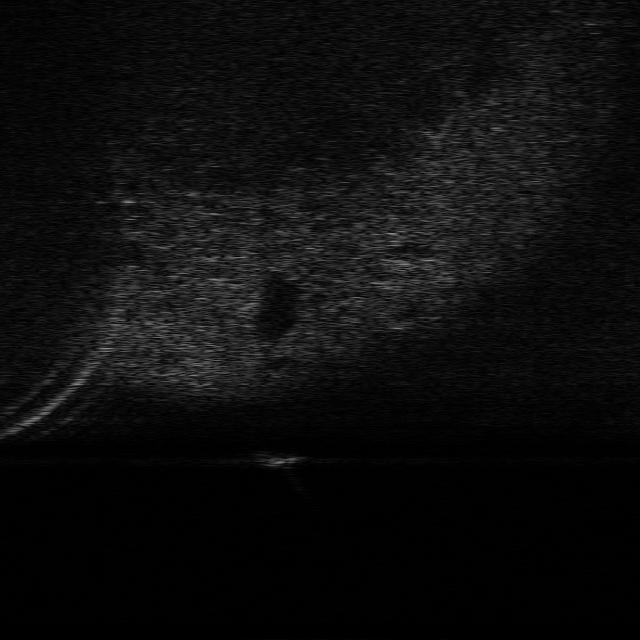cube: (252, 449, 308, 469)
